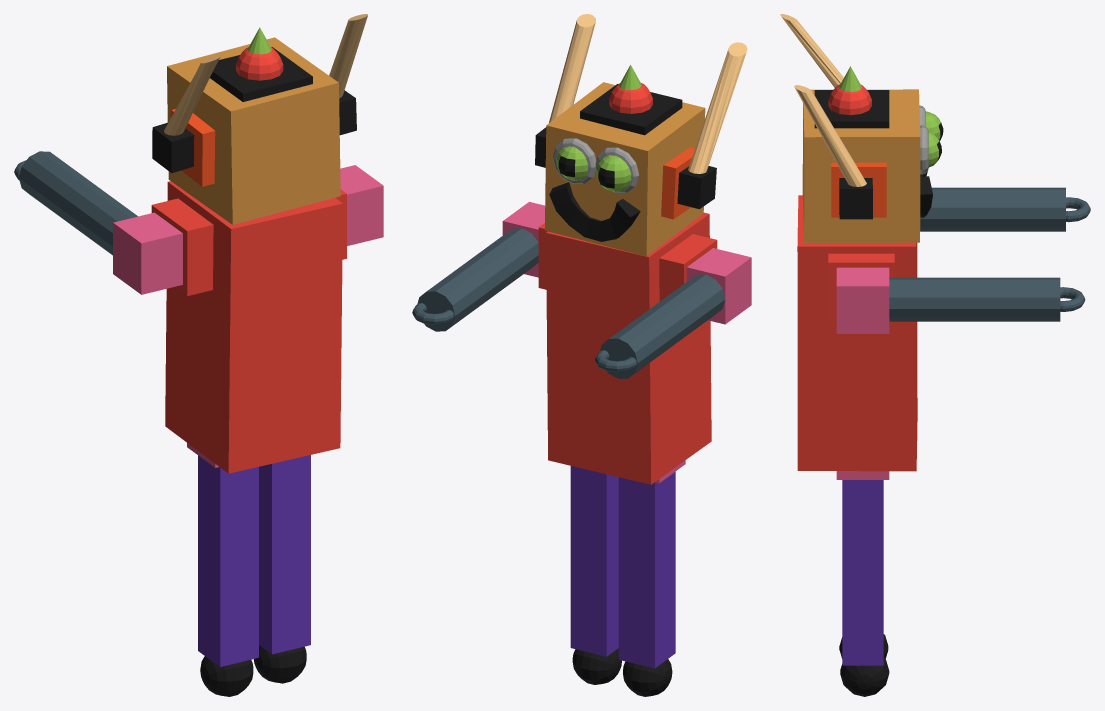
3 views of the same model, side by side, from view 1: azimuth 30°, elevation 25°; view 2: azimuth 150°, elevation 25°; view 3: azimuth 270°, elevation 25° (orthographic). The views are drawn at different scales.
Visible parts, largest first — view 1: mesh_867069097, mesh_1566099733, mesh_1736241116, mesh_1910721952, mesh_1684435731, mesh_2118692793, mesh_1846053958, mesh_542101764, mesh_68000474, mesh_1267542794, mesh_956937246, mesh_2112255389 (+5 smaller); view 2: mesh_867069097, mesh_1566099733, mesh_1736241116, mesh_1910721952, mesh_1684435731, mesh_1987673502, mesh_2118692793, mesh_1456274254, group_494724598, mesh_68000474, mesh_2080904301, mesh_1846053958 (+13 smaller); view 3: mesh_867069097, mesh_1566099733, mesh_1910721952, mesh_1987673502, mesh_1684435731, mesh_542101764, mesh_2080904301, mesh_68000474, mesh_319604375, mesh_1092167844, mesh_1915344981, mesh_1761165920 (+5 smaller).
Part boxes in pixels (x1=…): mesh_867069097: x1=165, y1=181, x2=342, y2=473; mesh_1566099733: x1=167, y1=37, x2=340, y2=224; mesh_1736241116: x1=198, y1=455, x2=258, y2=666; mesh_1910721952: x1=259, y1=455, x2=310, y2=654; mesh_1684435731: x1=19, y1=151, x2=137, y2=255; mesh_2118692793: x1=113, y1=212, x2=182, y2=294; mesh_1846053958: x1=151, y1=198, x2=213, y2=295; mesh_542101764: x1=340, y1=165, x2=383, y2=245; mesh_68000474: x1=210, y1=47, x2=312, y2=101; mesh_1267542794: x1=152, y1=122, x2=194, y2=173; mesh_956937246: x1=171, y1=109, x2=215, y2=186; mesh_2112255389: x1=200, y1=656, x2=253, y2=696; mesh_867069097: x1=546, y1=212, x2=711, y2=484; mesh_1566099733: x1=545, y1=82, x2=705, y2=256; mesh_1736241116: x1=618, y1=471, x2=675, y2=668; mesh_1910721952: x1=570, y1=466, x2=618, y2=656; mesh_1684435731: x1=600, y1=274, x2=725, y2=378; mesh_1987673502: x1=417, y1=228, x2=538, y2=331; mesh_2118692793: x1=686, y1=248, x2=751, y2=324; mesh_1456274254: x1=688, y1=42, x2=747, y2=173; group_494724598: x1=549, y1=182, x2=640, y2=241; mesh_68000474: x1=580, y1=84, x2=682, y2=135; mesh_2080904301: x1=549, y1=14, x2=595, y2=122; mesh_1846053958: x1=659, y1=234, x2=717, y2=301; mesh_867069097: x1=797, y1=195, x2=917, y2=471; mesh_1566099733: x1=802, y1=89, x2=920, y2=242; mesh_1910721952: x1=842, y1=480, x2=883, y2=665; mesh_1987673502: x1=889, y1=277, x2=1060, y2=321; mesh_1684435731: x1=920, y1=187, x2=1065, y2=231; mesh_542101764: x1=836, y1=267, x2=889, y2=333; mesh_2080904301: x1=794, y1=85, x2=866, y2=186; mesh_68000474: x1=814, y1=90, x2=889, y2=128; mesh_319604375: x1=828, y1=253, x2=894, y2=322; mesh_1092167844: x1=831, y1=162, x2=886, y2=217; mesh_1915344981: x1=840, y1=657, x2=889, y2=696; mesh_1761165920: x1=839, y1=178, x2=872, y2=219.
Size of the model in its own units: 93 by 252 by 112.
